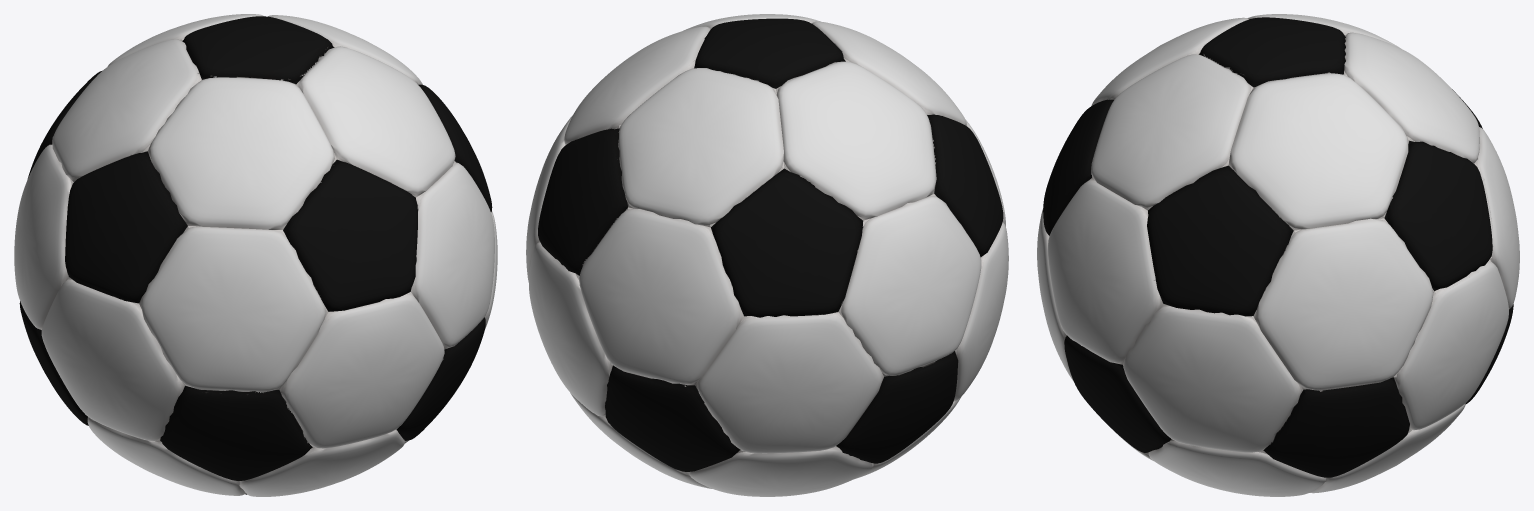
File: ball.fbx
3 views of the same model, side by side, from view 1: azimuth 30°, elevation 25°; view 2: azimuth 150°, elevation 25°; view 3: azimuth 270°, elevation 25° (orthographic).
Parts seen in each view (by area): view 1: soccer_ball; view 2: soccer_ball; view 3: soccer_ball.
Part boxes in pixels (x1=…): soccer_ball: x1=14, y1=14, x2=497, y2=496; soccer_ball: x1=526, y1=14, x2=1008, y2=496; soccer_ball: x1=1037, y1=14, x2=1519, y2=496.
Size of the model in its own units: 269 by 270 by 270.
Materials: 1 (1 with a texture image).
